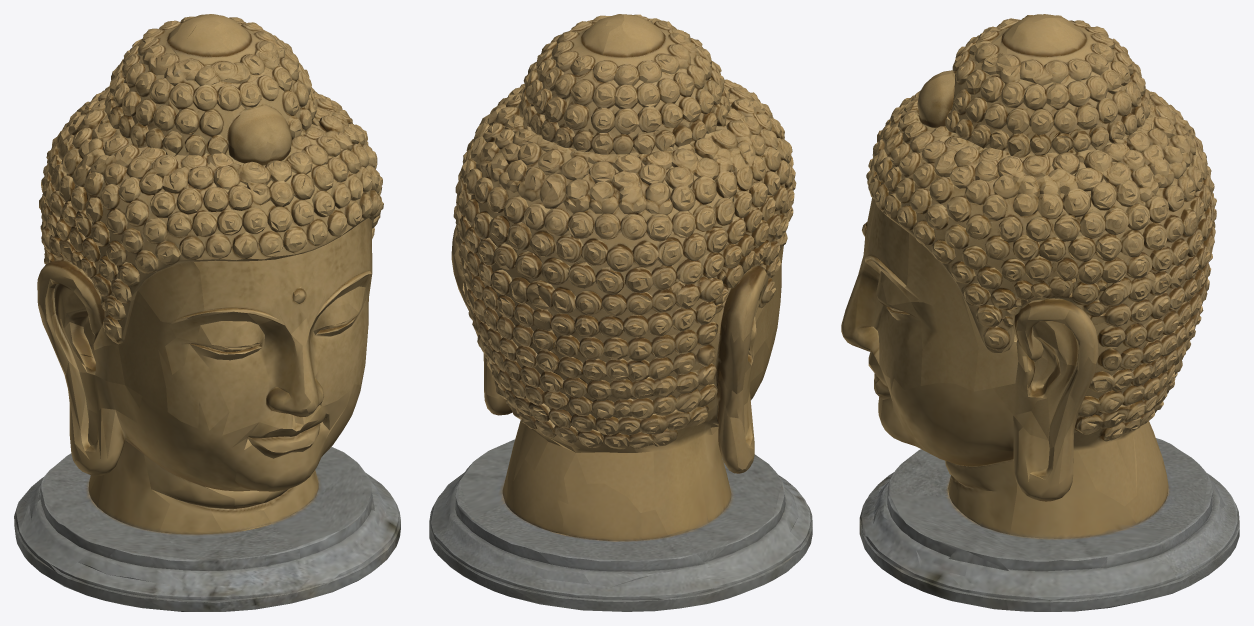
File: Meshy_AI_Giant_golden_Buddha_h_1117020009_texture.glb
The picture shows the model from 3 angles, left to right: view 1: azimuth 30°, elevation 25°; view 2: azimuth 150°, elevation 25°; view 3: azimuth 270°, elevation 25°; orthographic projection.
Parts seen in each view (by area): view 1: output_unwrapped; view 2: output_unwrapped; view 3: output_unwrapped.
Part boxes in pixels (x1=…): output_unwrapped: x1=14, y1=14, x2=400, y2=611; output_unwrapped: x1=429, y1=14, x2=812, y2=611; output_unwrapped: x1=841, y1=14, x2=1239, y2=611.
Size of the model in its own units: 1.3 by 1.9 by 1.34.
Materials: 1 (1 with a texture image).
